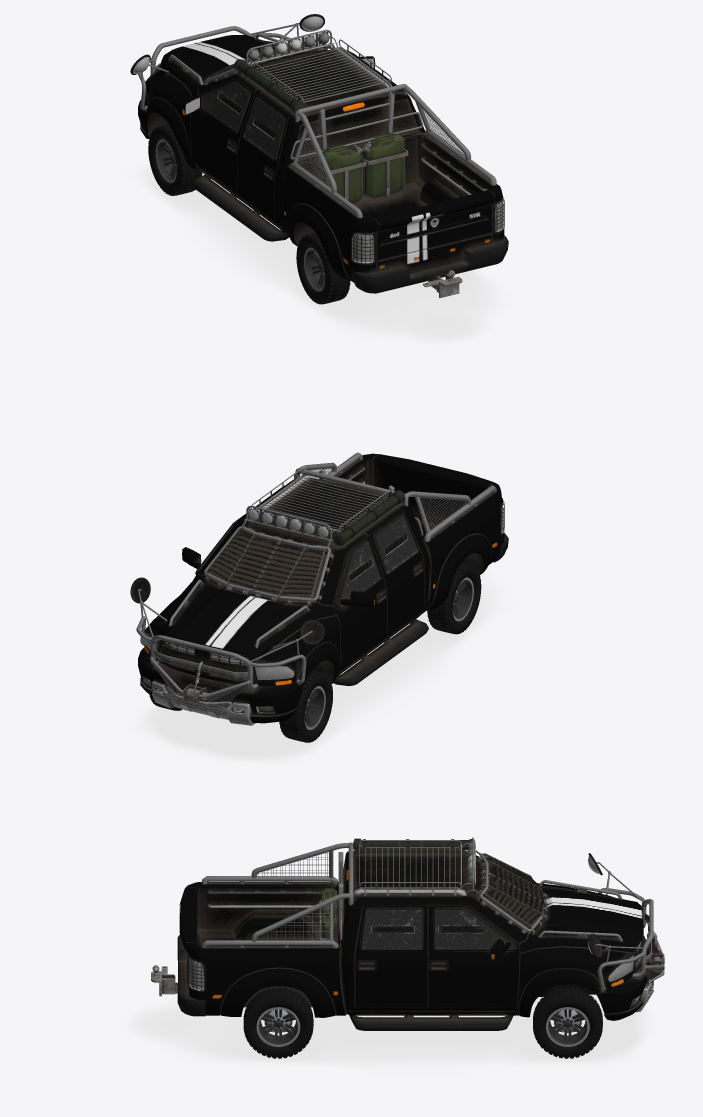
The picture shows the model from 3 angles, top to bottom: view 1: azimuth 30°, elevation 25°; view 2: azimuth 150°, elevation 25°; view 3: azimuth 270°, elevation 25°; orthographic projection. The views are drawn at different scales.
Parts seen in each view (by area): view 1: 1_CarPaint, 2_Props, Ground, 4_Wheel, 3_Vitre; view 2: 1_CarPaint, 2_Props, Ground, 4_Wheel, 3_Vitre; view 3: 1_CarPaint, 2_Props, Ground, 4_Wheel, 3_Vitre.
Part boxes in pixels (bbox=[...]): 1_CarPaint: bbox=[138, 35, 504, 282]; 2_Props: bbox=[130, 14, 508, 297]; Ground: bbox=[136, 163, 501, 343]; 4_Wheel: bbox=[148, 124, 350, 304]; 3_Vitre: bbox=[353, 201, 503, 262]; 1_CarPaint: bbox=[138, 453, 504, 723]; 2_Props: bbox=[130, 452, 508, 725]; Ground: bbox=[136, 569, 501, 763]; 4_Wheel: bbox=[149, 562, 481, 742]; 3_Vitre: bbox=[144, 505, 503, 712]; 1_CarPaint: bbox=[179, 850, 649, 1020]; 2_Props: bbox=[151, 837, 664, 1032]; Ground: bbox=[128, 994, 650, 1068]; 4_Wheel: bbox=[243, 987, 602, 1058]; 3_Vitre: bbox=[189, 955, 635, 1003].
Bounding box in the file's own units: 1.45 × 0.7258 × 2.63.
6 materials, 6 textured.
